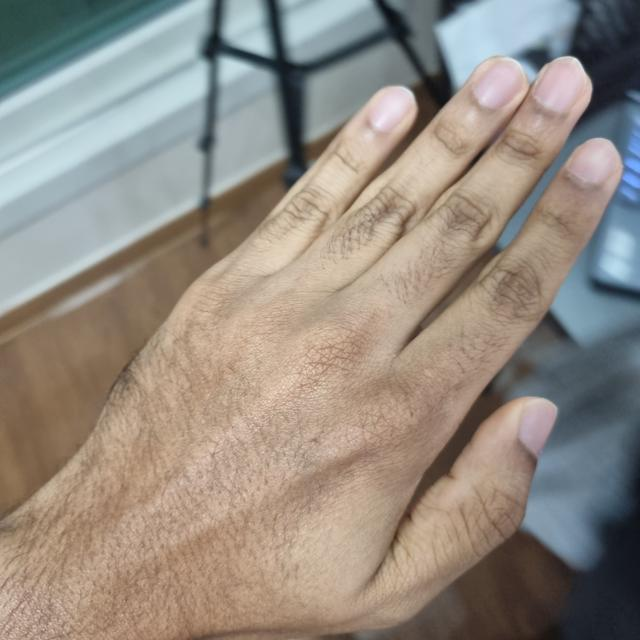Paper: (50, 56, 620, 639)
